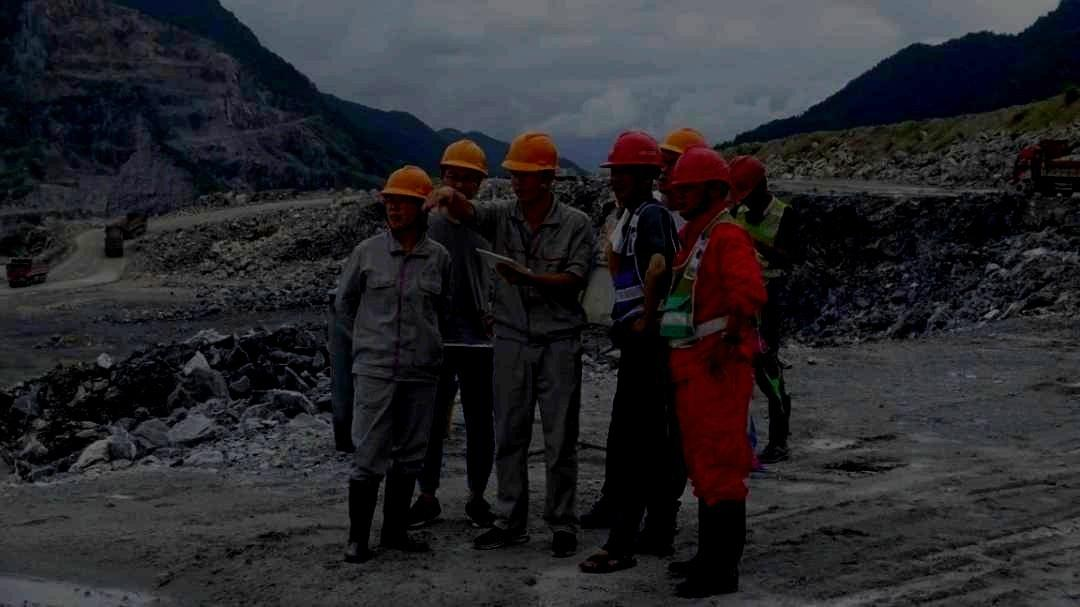helmet: (598, 128, 664, 204), (667, 143, 731, 220), (499, 129, 560, 205), (378, 164, 434, 230), (657, 127, 709, 190), (439, 138, 489, 201), (727, 155, 769, 212)
